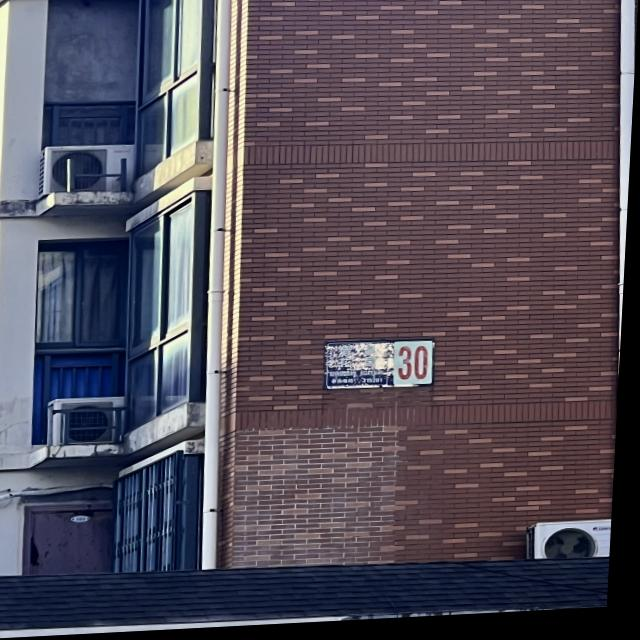damp: (49, 190, 127, 209)
efflorescence: (225, 418, 418, 572)
